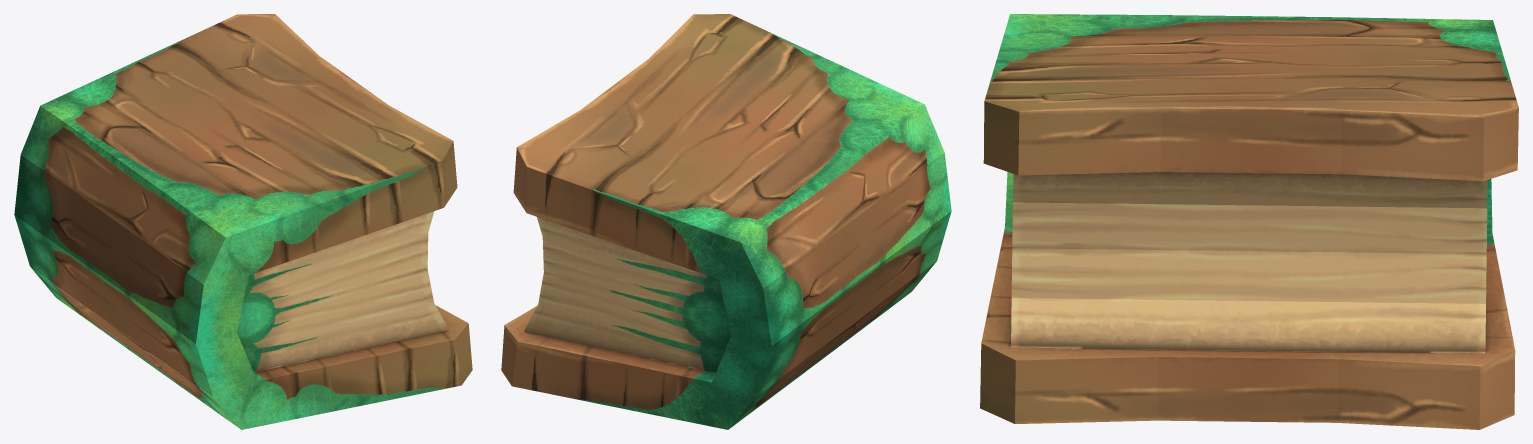
The model's file is WoodenBook.fbx.
The picture shows the model from 3 angles, left to right: view 1: azimuth 30°, elevation 25°; view 2: azimuth 150°, elevation 25°; view 3: azimuth 270°, elevation 25°; orthographic projection. The views are drawn at different scales.
Parts seen in each view (by area): view 1: WoodenBook; view 2: WoodenBook; view 3: WoodenBook.
Boxes of the visible parts, box(x1,y1,x2,y2) form: WoodenBook: box(14, 14, 472, 429); WoodenBook: box(501, 14, 951, 429); WoodenBook: box(980, 14, 1518, 429).
Size of the model in its own units: 44.2 by 36.01 by 57.18.
